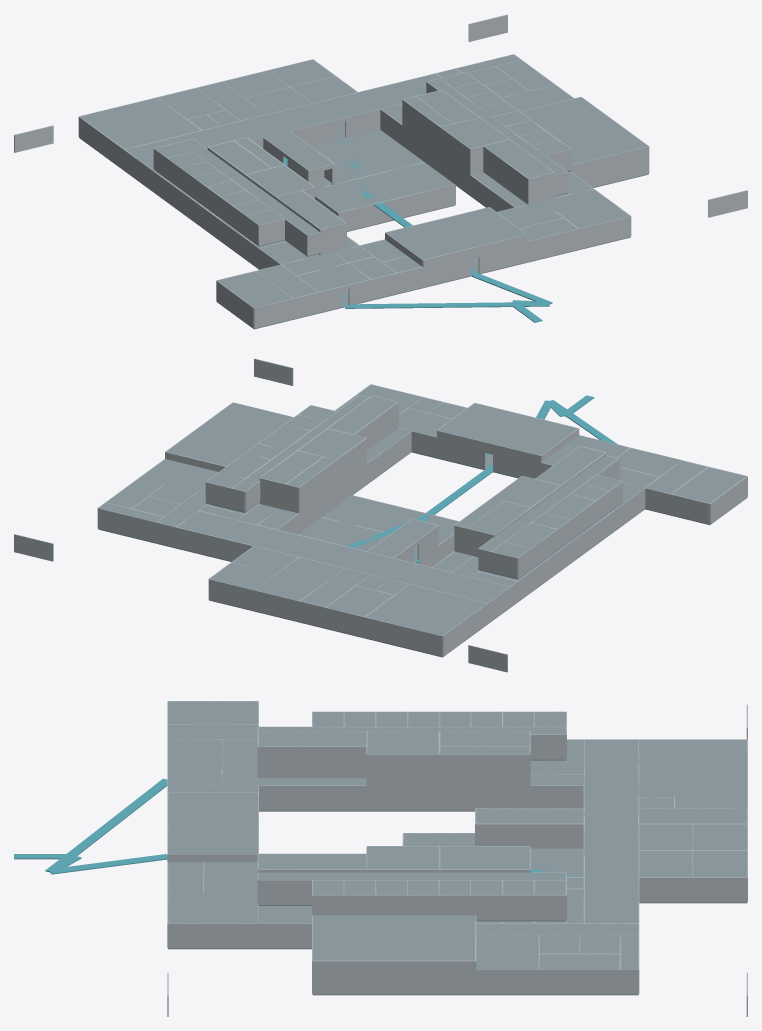
The model's file is rough-shell.glb.
3 views of the same model, one above another, from view 1: azimuth 30°, elevation 25°; view 2: azimuth 150°, elevation 25°; view 3: azimuth 270°, elevation 25° (orthographic). The views are drawn at different scales.
Visible parts, largest first — view 1: Ceiling cap cross, Ceiling cap chapel, Ceiling cap sally, Ceiling cap dining, Wall laundry S, Wall chapel S, Ceiling cap guard-link, Wall b-rear-bypass W, Ceiling cap a-upper-gallery, Ceiling cap visitors, Wall b-dayhall W, Wall sally S.001 (+47 smaller); view 2: Ceiling cap cross, Ceiling cap chapel, Ceiling cap sally, Ceiling cap dining, Wall b-rear-bypass W, Wall dining N, Ceiling cap a-upper-gallery, Wall cross N.002, Ceiling cap isolation-wash, Wall b-dayhall W, Ceiling cap visitors, Wall sally N.001 (+42 smaller); view 3: Ceiling cap cross, Ceiling cap chapel, Wall chapel E, Ceiling cap sally, Ceiling cap dining, Wall a-rear-bypass E, Wall a-dayhall E, Wall a-stair E, Ceiling cap guard-link, Wall a-front-aisle E, Wall plant-stair E, Ceiling cap b-upper-gallery (+55 smaller).
Boxes of the visible parts, x1,y1,x2,y2 form: Ceiling cap cross: (125, 73, 440, 165); Ceiling cap chapel: (521, 97, 648, 165); Ceiling cap sally: (386, 207, 526, 259); Ceiling cap dining: (80, 97, 200, 148); Wall laundry S: (338, 184, 455, 231); Wall chapel S: (571, 146, 648, 187); Ceiling cap guard-link: (542, 189, 629, 228); Wall b-rear-bypass W: (402, 99, 440, 172); Ceiling cap a-upper-gallery: (181, 139, 319, 235); Ceiling cap visitors: (217, 271, 292, 307); Wall b-dayhall W: (440, 127, 470, 194); Wall sally S.001: (478, 234, 527, 273); Ceiling cap cross: (177, 511, 509, 602); Ceiling cap chapel: (166, 402, 293, 466); Ceiling cap sally: (437, 403, 577, 455); Ceiling cap dining: (366, 584, 486, 635); Wall b-rear-bypass W: (299, 460, 336, 533); Wall dining N: (364, 617, 442, 656); Ceiling cap a-upper-gallery: (479, 455, 617, 551); Wall cross N.002: (175, 527, 353, 570); Ceiling cap isolation-wash: (140, 459, 218, 491); Wall b-dayhall W: (336, 438, 366, 505); Ceiling cap visitors: (672, 467, 746, 503); Wall sally N.001: (437, 430, 485, 469); Ceiling cap cross: (584, 739, 638, 923); Ceiling cap chapel: (312, 915, 475, 960); Wall chapel E: (312, 960, 475, 994); Ceiling cap sally: (168, 792, 258, 853); Ceiling cap dining: (638, 739, 747, 785); Wall a-rear-bypass E: (439, 754, 529, 810); Wall a-dayhall E: (367, 754, 439, 810); Wall a-stair E: (258, 746, 366, 778); Ceiling cap guard-link: (168, 892, 258, 923); Wall a-front-aisle E: (258, 785, 366, 810); Wall plant-stair E: (475, 823, 583, 848); Ceiling cap b-upper-gallery: (258, 872, 566, 879).
Size of the model in its own units: 76.08 by 9.96 by 81.08.
